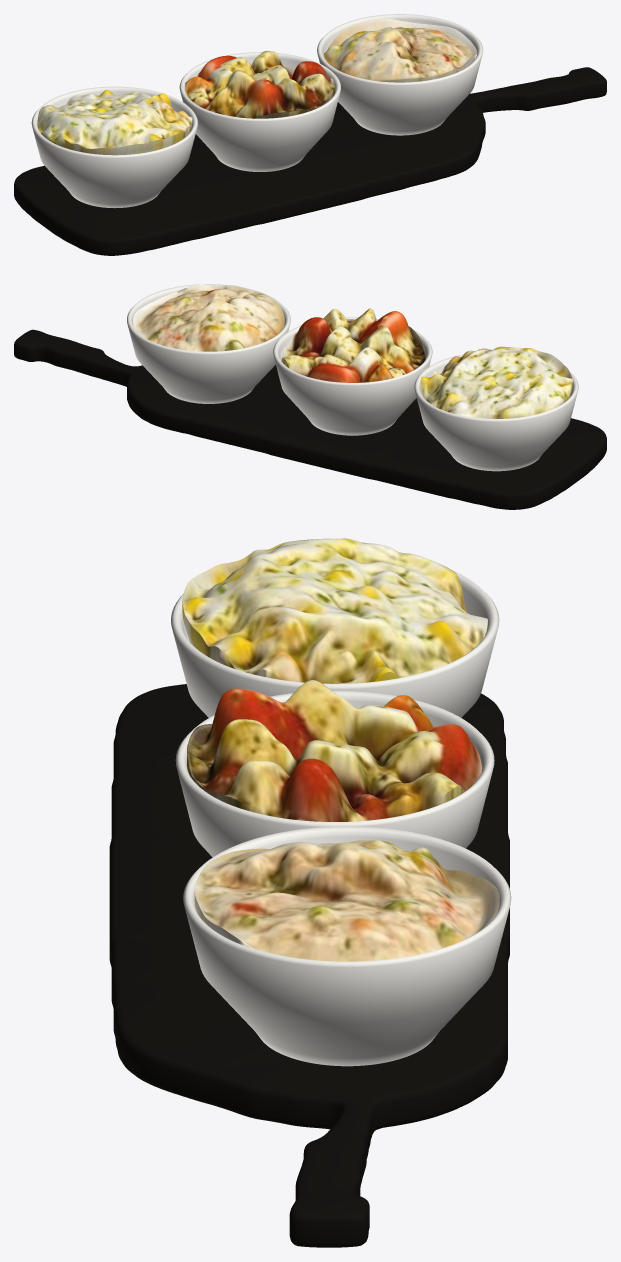
The model's file is salad-plate.glb.
The picture shows the model from 3 angles, top to bottom: view 1: azimuth 30°, elevation 25°; view 2: azimuth 150°, elevation 25°; view 3: azimuth 270°, elevation 25°; orthographic projection. The views are drawn at different scales.
Parts seen in each view (by area): view 1: salad-plate_tray, salad-plate_bowl1, salad-plate_bowl3, salad-plate_salad1, salad-plate_salad3, salad-plate_bowl2, salad-plate_salad2; view 2: salad-plate_tray, salad-plate_salad1, salad-plate_salad2, salad-plate_salad3, salad-plate_bowl3, salad-plate_bowl1, salad-plate_bowl2; view 3: salad-plate_tray, salad-plate_salad1, salad-plate_bowl3, salad-plate_salad2, salad-plate_salad3, salad-plate_bowl2, salad-plate_bowl1.
Part boxes in pixels (x1=…): salad-plate_tray: x1=14, y1=67, x2=606, y2=255; salad-plate_bowl1: x1=31, y1=86, x2=197, y2=208; salad-plate_bowl3: x1=317, y1=14, x2=483, y2=135; salad-plate_salad1: x1=37, y1=90, x2=192, y2=155; salad-plate_salad3: x1=324, y1=18, x2=477, y2=82; salad-plate_bowl2: x1=179, y1=52, x2=340, y2=171; salad-plate_salad2: x1=185, y1=50, x2=335, y2=118; salad-plate_tray: x1=14, y1=329, x2=606, y2=509; salad-plate_salad1: x1=420, y1=346, x2=572, y2=418; salad-plate_salad2: x1=280, y1=308, x2=425, y2=382; salad-plate_salad3: x1=133, y1=284, x2=284, y2=351; salad-plate_bowl3: x1=127, y1=284, x2=290, y2=403; salad-plate_bowl1: x1=414, y1=354, x2=578, y2=471; salad-plate_bowl2: x1=273, y1=317, x2=432, y2=435; salad-plate_tray: x1=109, y1=684, x2=509, y2=1247; salad-plate_salad1: x1=182, y1=538, x2=487, y2=683; salad-plate_bowl3: x1=183, y1=826, x2=511, y2=1066; salad-plate_salad2: x1=187, y1=680, x2=482, y2=821; salad-plate_salad3: x1=194, y1=840, x2=499, y2=961; salad-plate_bowl2: x1=175, y1=690, x2=494, y2=857; salad-plate_bowl1: x1=171, y1=570, x2=499, y2=717.
Bounding box in the file's own units: 0.4147 × 0.0777 × 0.1303.
5 materials, 3 textured.
